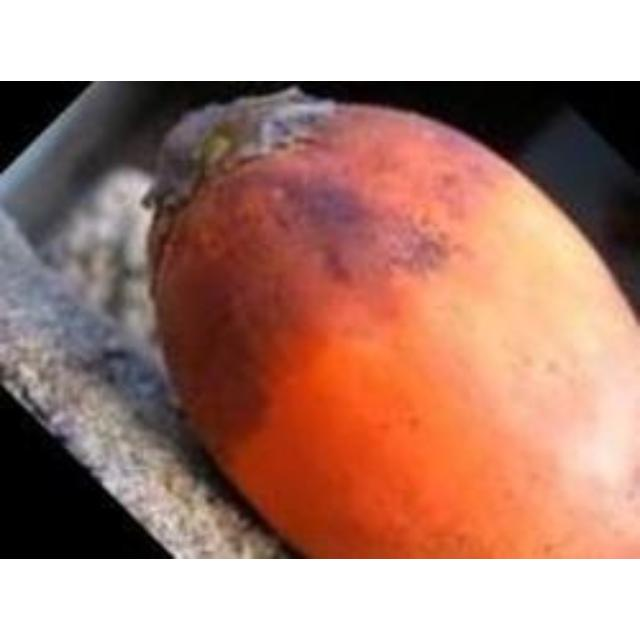good: (143, 89, 637, 557)
